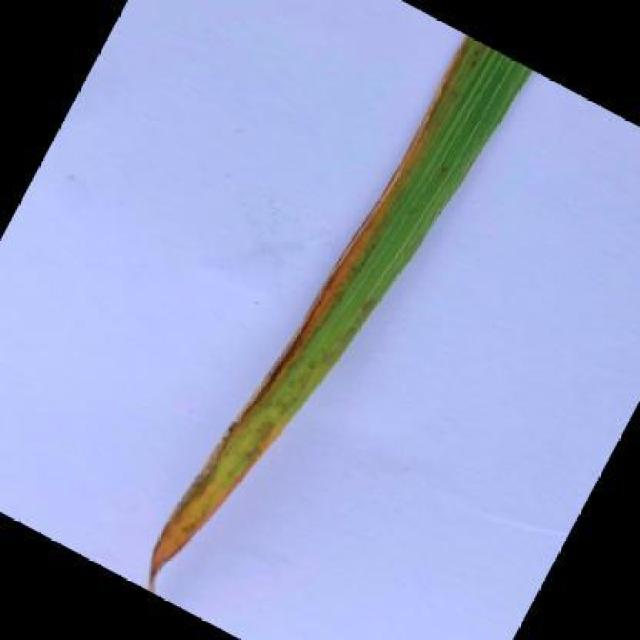Rice False Smut: (131, 17, 524, 629)
